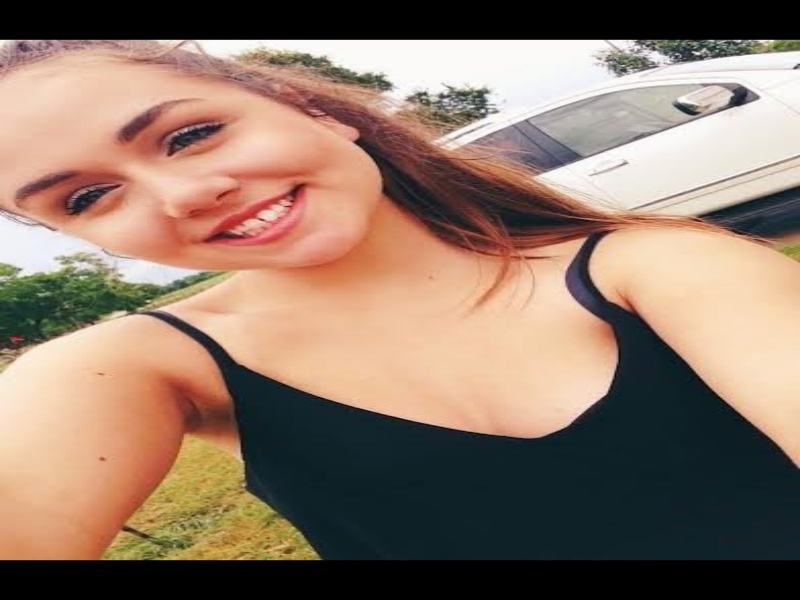smile: (1, 67, 381, 269)
